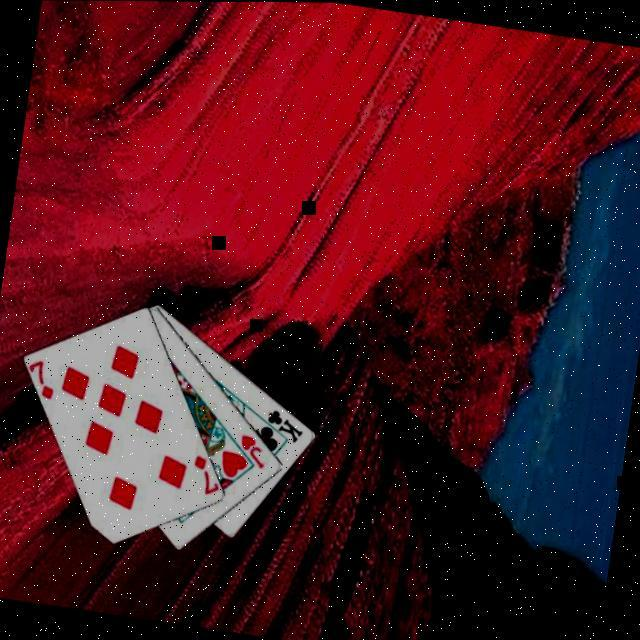7D: (189, 450, 227, 497), (26, 355, 63, 401)
JH: (236, 429, 274, 469)
KC: (256, 403, 310, 445)
